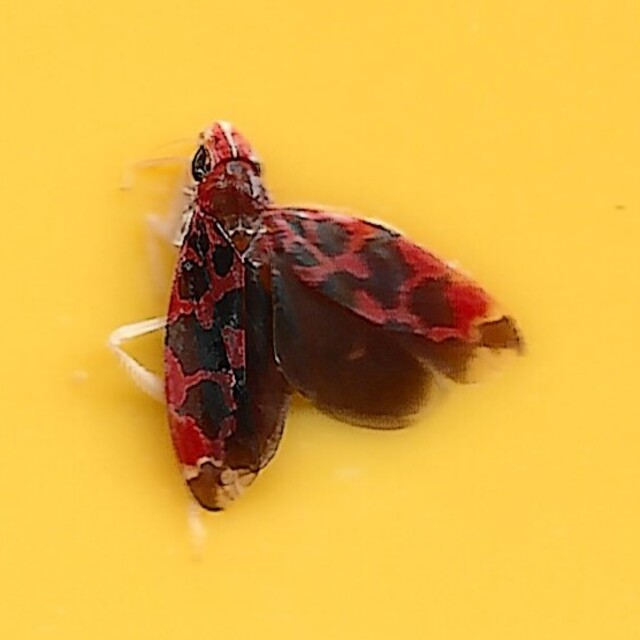Hemiptera: (115, 126, 525, 514)
